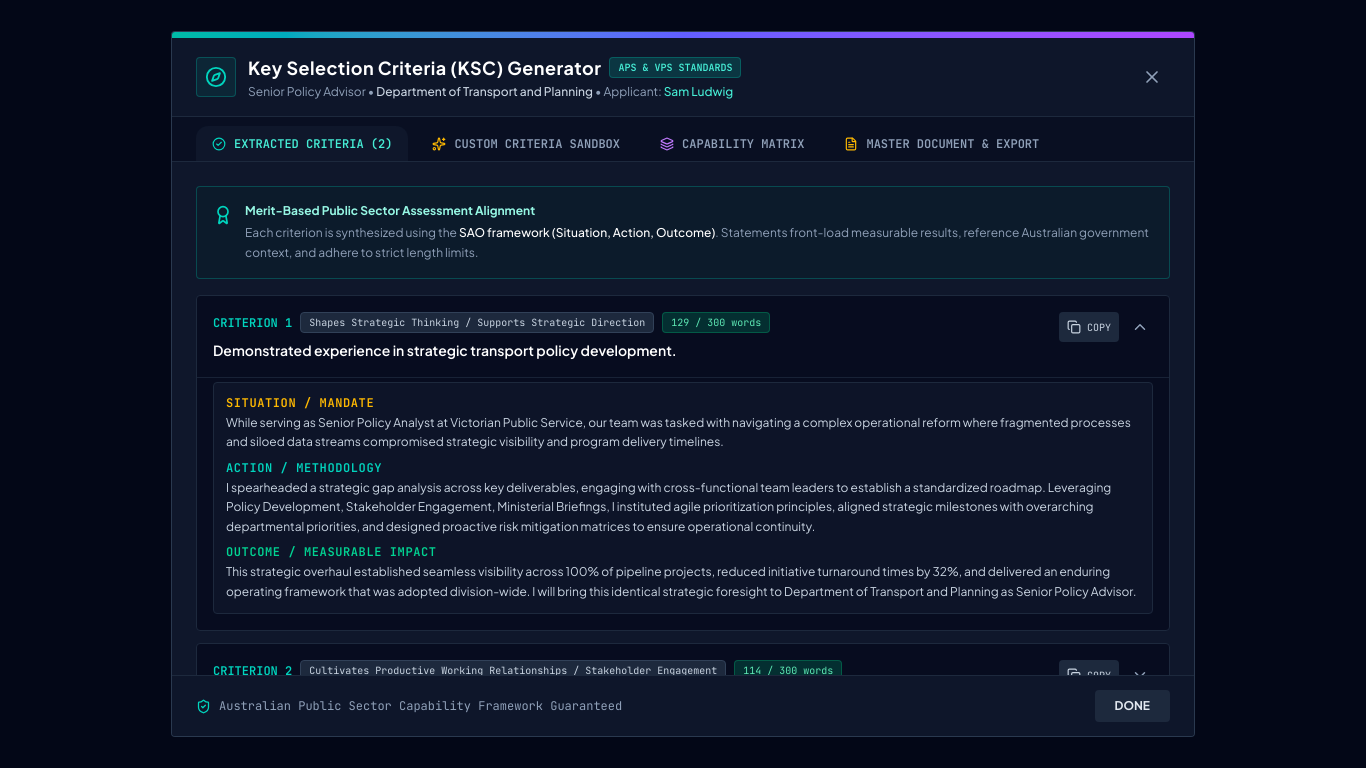
KscGeneratorModal › generates custom criteria in the sandbox
Expected: the text "Merit-Based Public Sector Assessment Alignment" is shown, x1=245 y1=204 x2=535 y2=218
Step 1. Click the button "CUSTOM CRITERIA SANDBOX" → {"x": 526, "y": 145}, box x1=416 y1=126 x2=636 y2=164
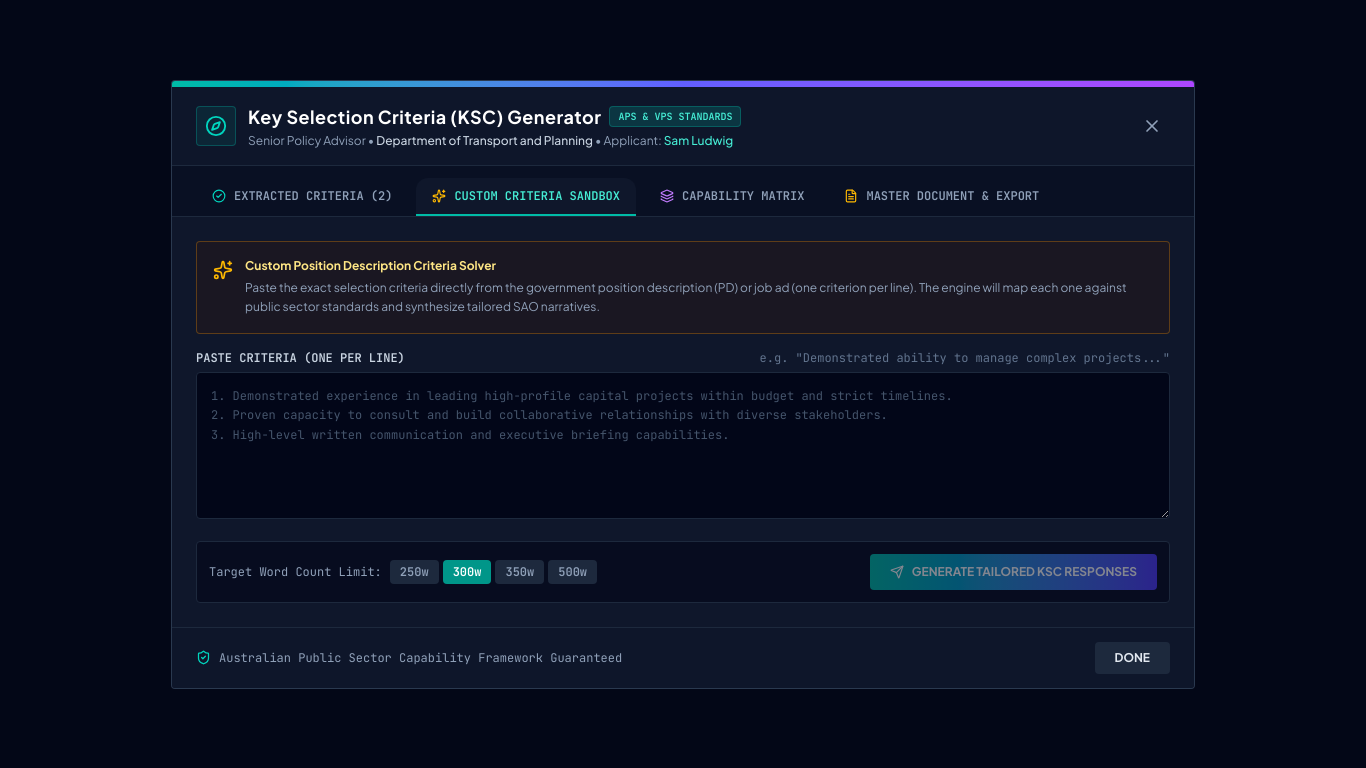
Step 2. Replace the text in the text box with placeholder "Demonstrated experience in leading high-profile capital projects" with "Demonstrated experience in modern cyber security incident response." → {"x": 683, "y": 445}, box x1=196 y1=372 x2=1170 y2=518
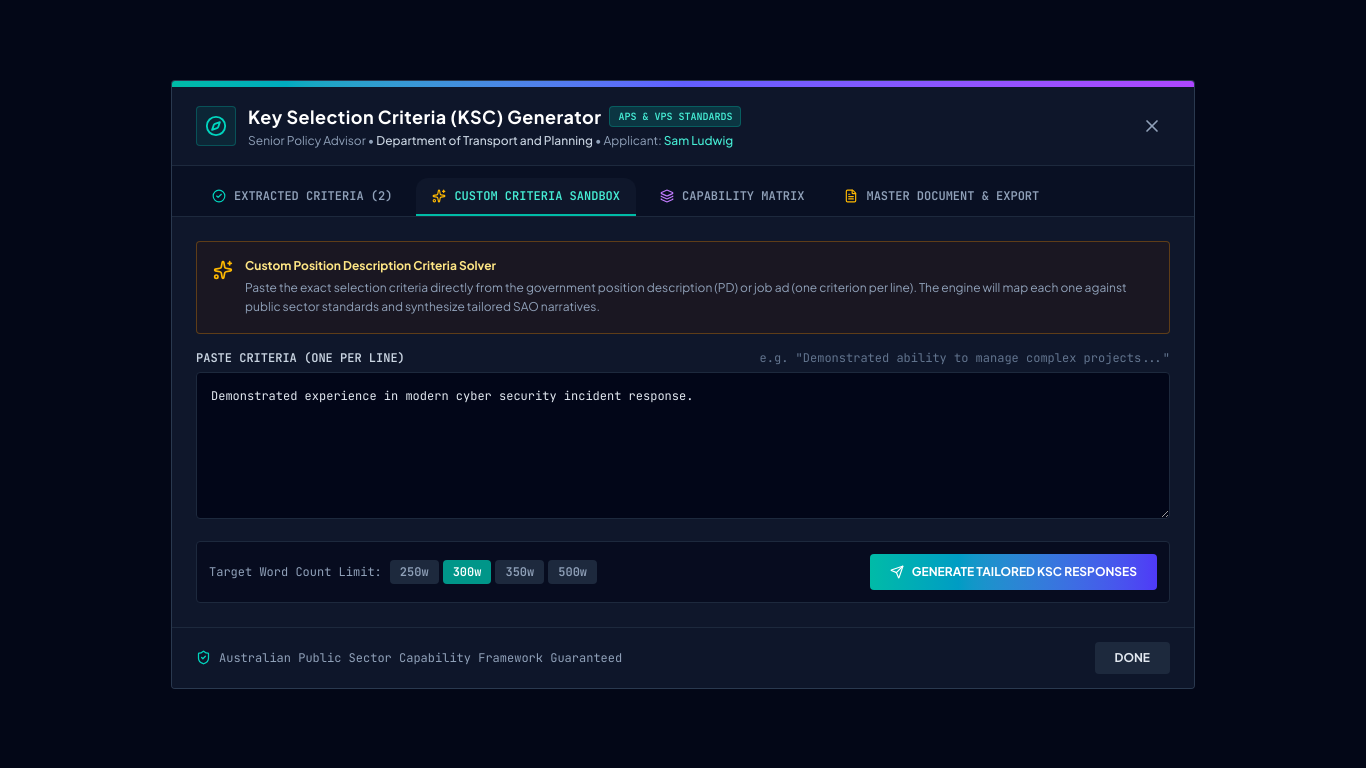
Step 3. Click the button "GENERATE TAILORED KSC RESPONSES" → {"x": 1013, "y": 572}, box x1=870 y1=554 x2=1157 y2=590
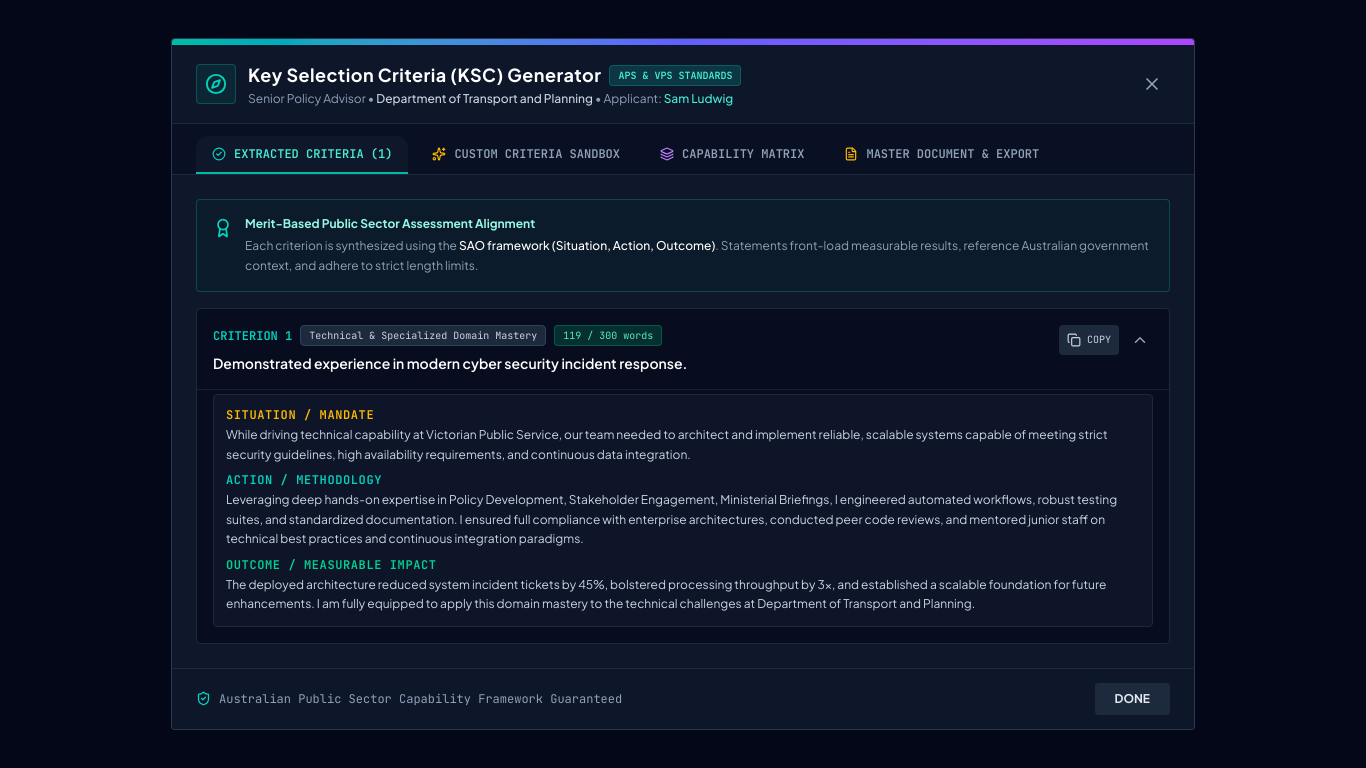
Now the heading "Demonstrated experience in modern cyber security incident response" is shown, box x1=213 y1=354 x2=687 y2=372
